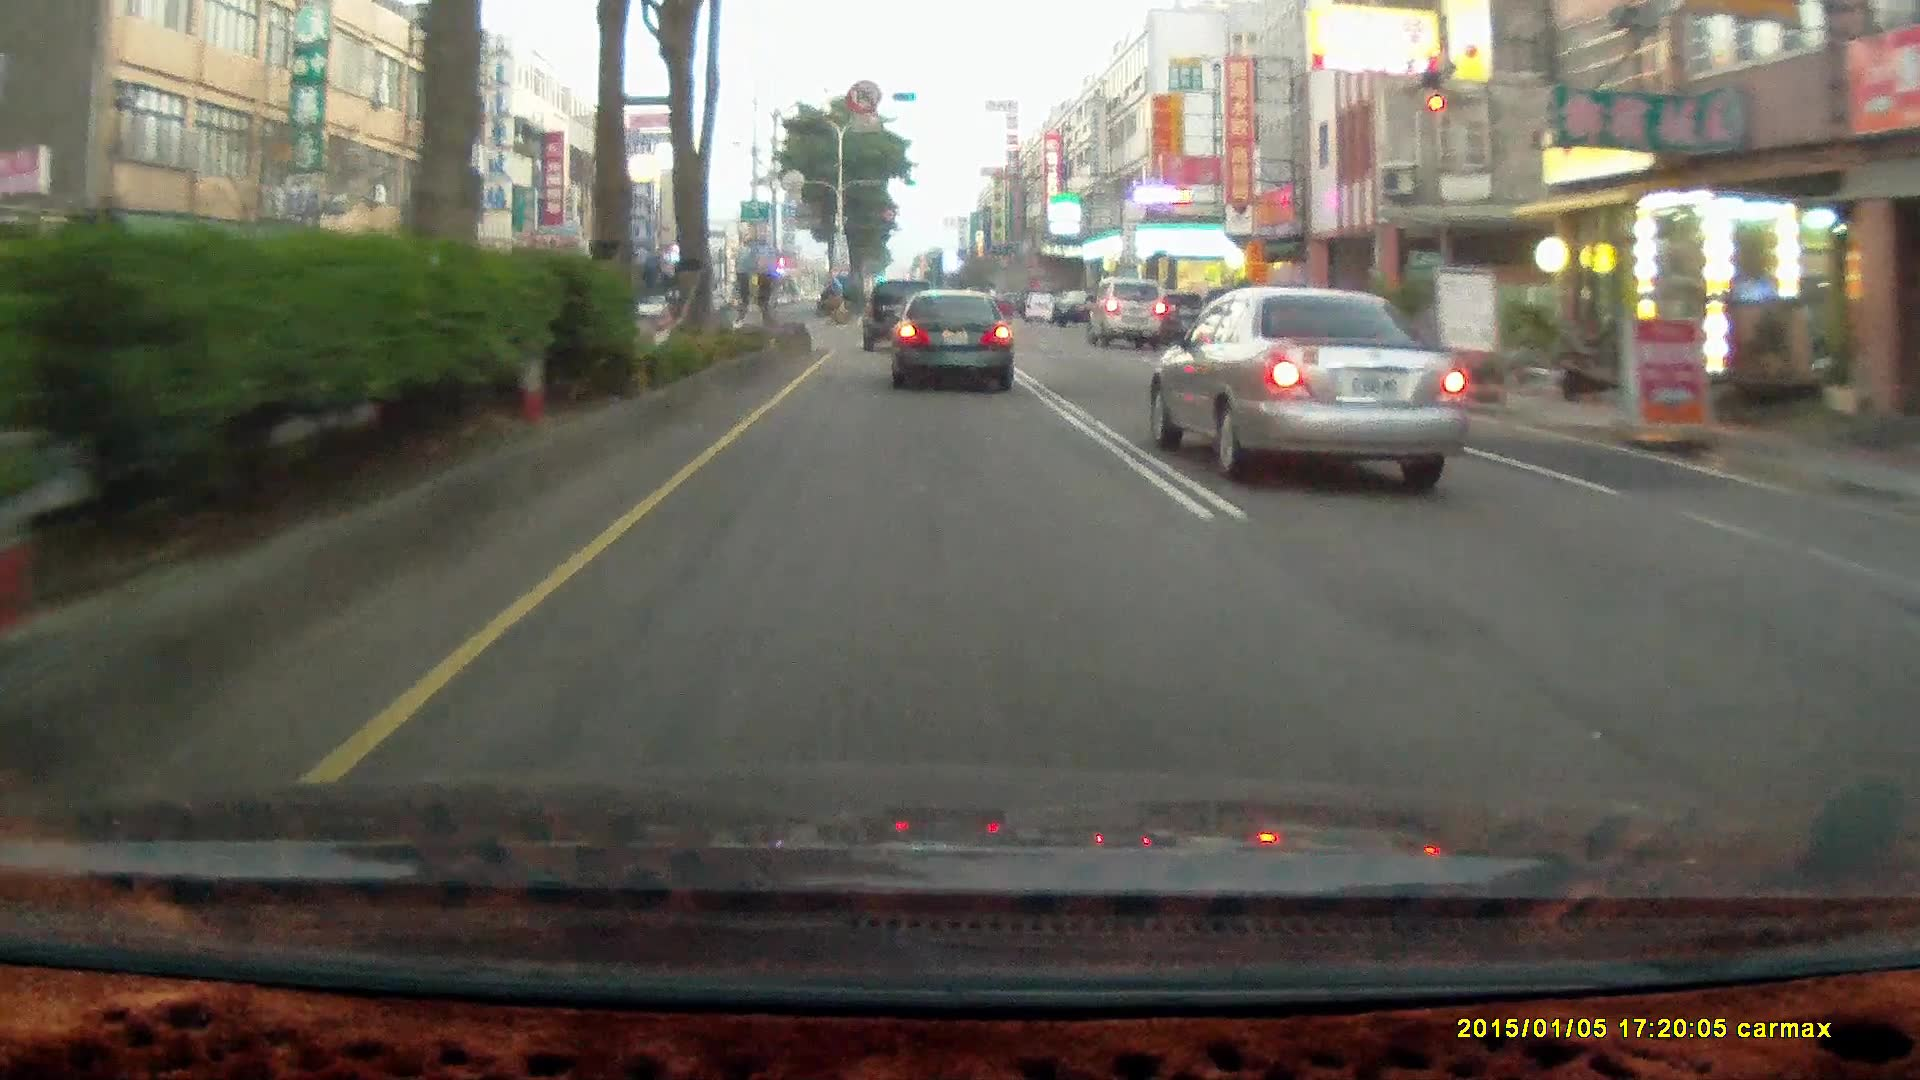vehicle: (1149, 286, 1469, 476), (889, 286, 1019, 396), (889, 285, 1011, 390), (861, 278, 942, 355), (861, 280, 938, 353), (1087, 278, 1167, 348), (1087, 277, 1166, 347), (1052, 284, 1112, 324), (1025, 287, 1056, 318)
